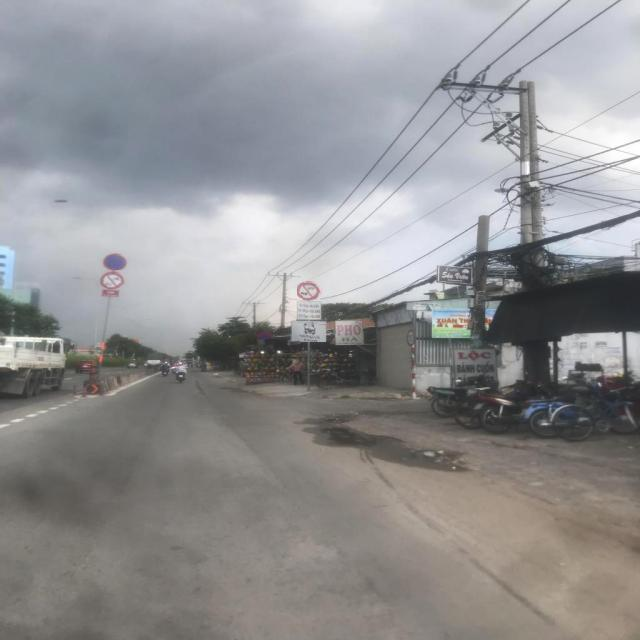107-cam-oto-khach-va-oto-tai: (298, 281, 322, 300)
